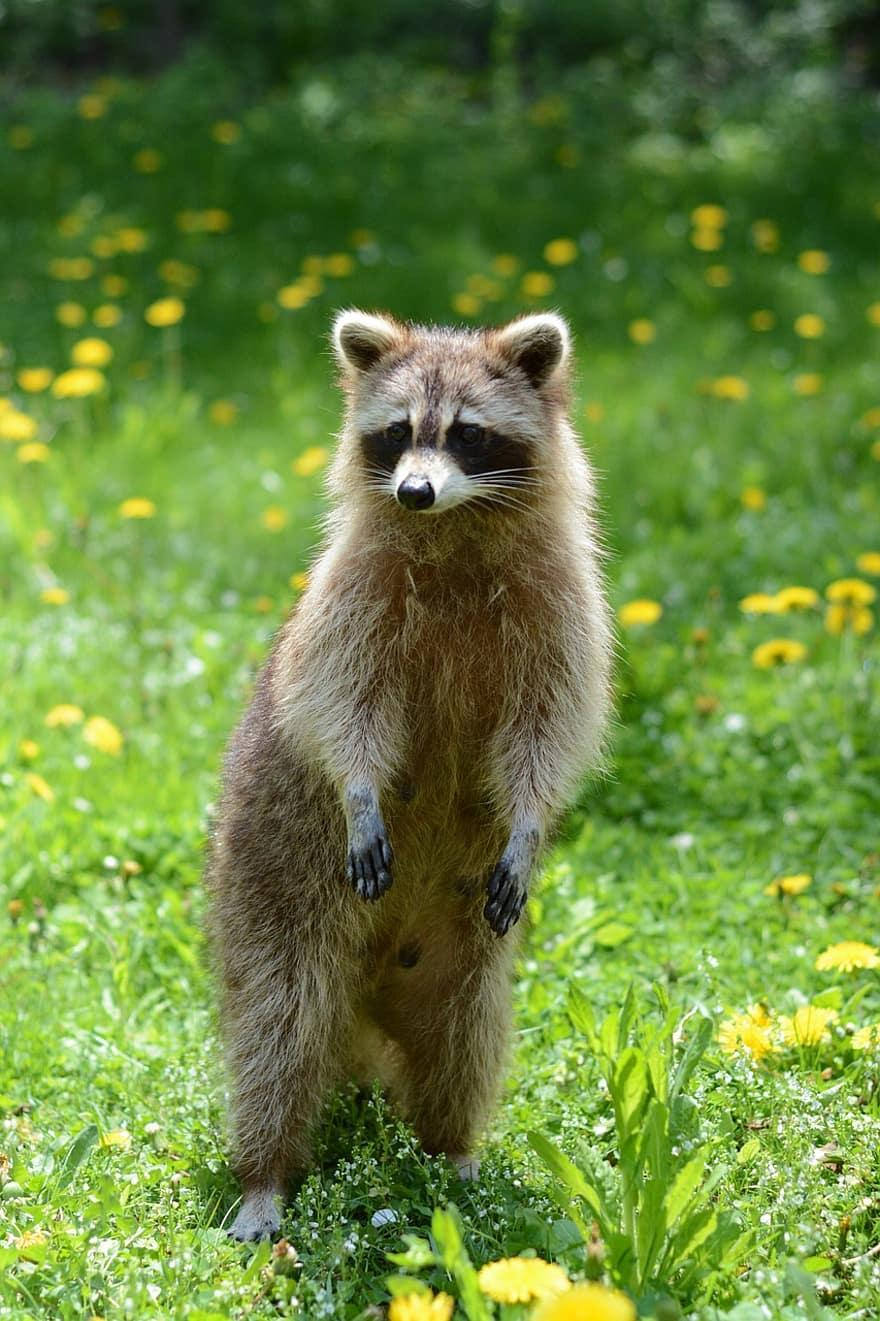raccoon: (211, 307, 615, 1239)
